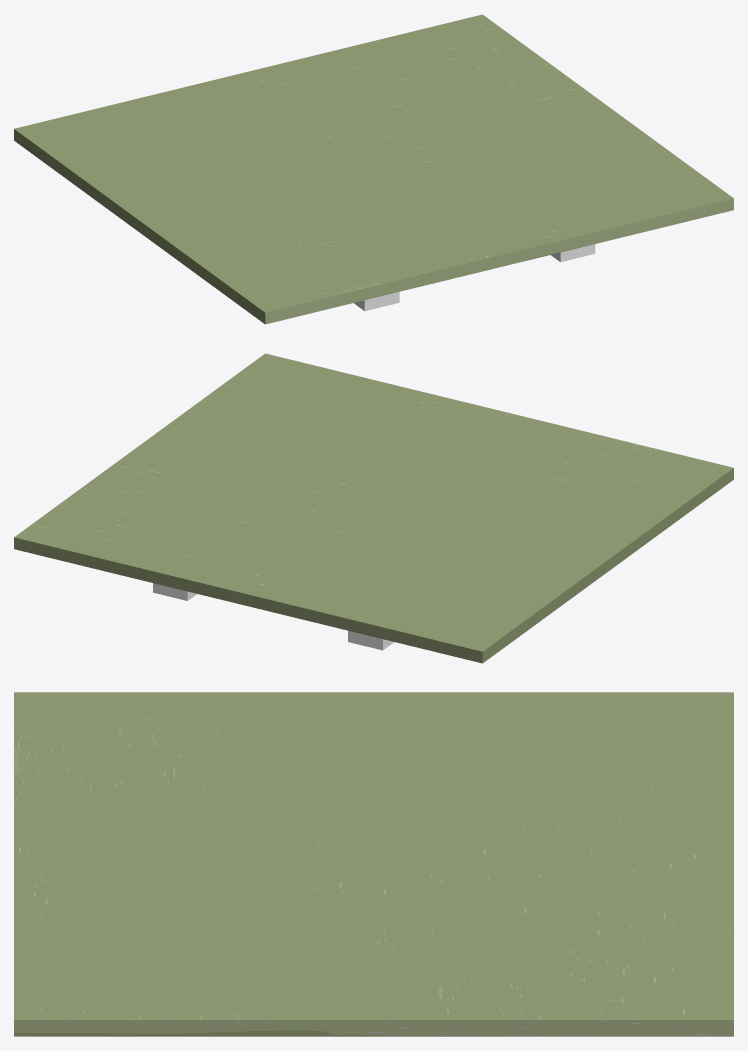
The model's file is Roof.fbx.
3 views of the same model, one above another, from view 1: azimuth 30°, elevation 25°; view 2: azimuth 150°, elevation 25°; view 3: azimuth 270°, elevation 25° (orthographic). The views are drawn at different scales.
Visible parts, largest first — view 1: Cube.003; view 2: Cube.003; view 3: Cube.003.
Boxes of the visible parts, x1=… form: Cube.003: x1=14, y1=14, x2=733, y2=324; Cube.003: x1=14, y1=353, x2=733, y2=663; Cube.003: x1=14, y1=692, x2=733, y2=1036.
Bounding box in the file's own units: 967 × 45.52 × 898.
2 materials, 2 textured.
